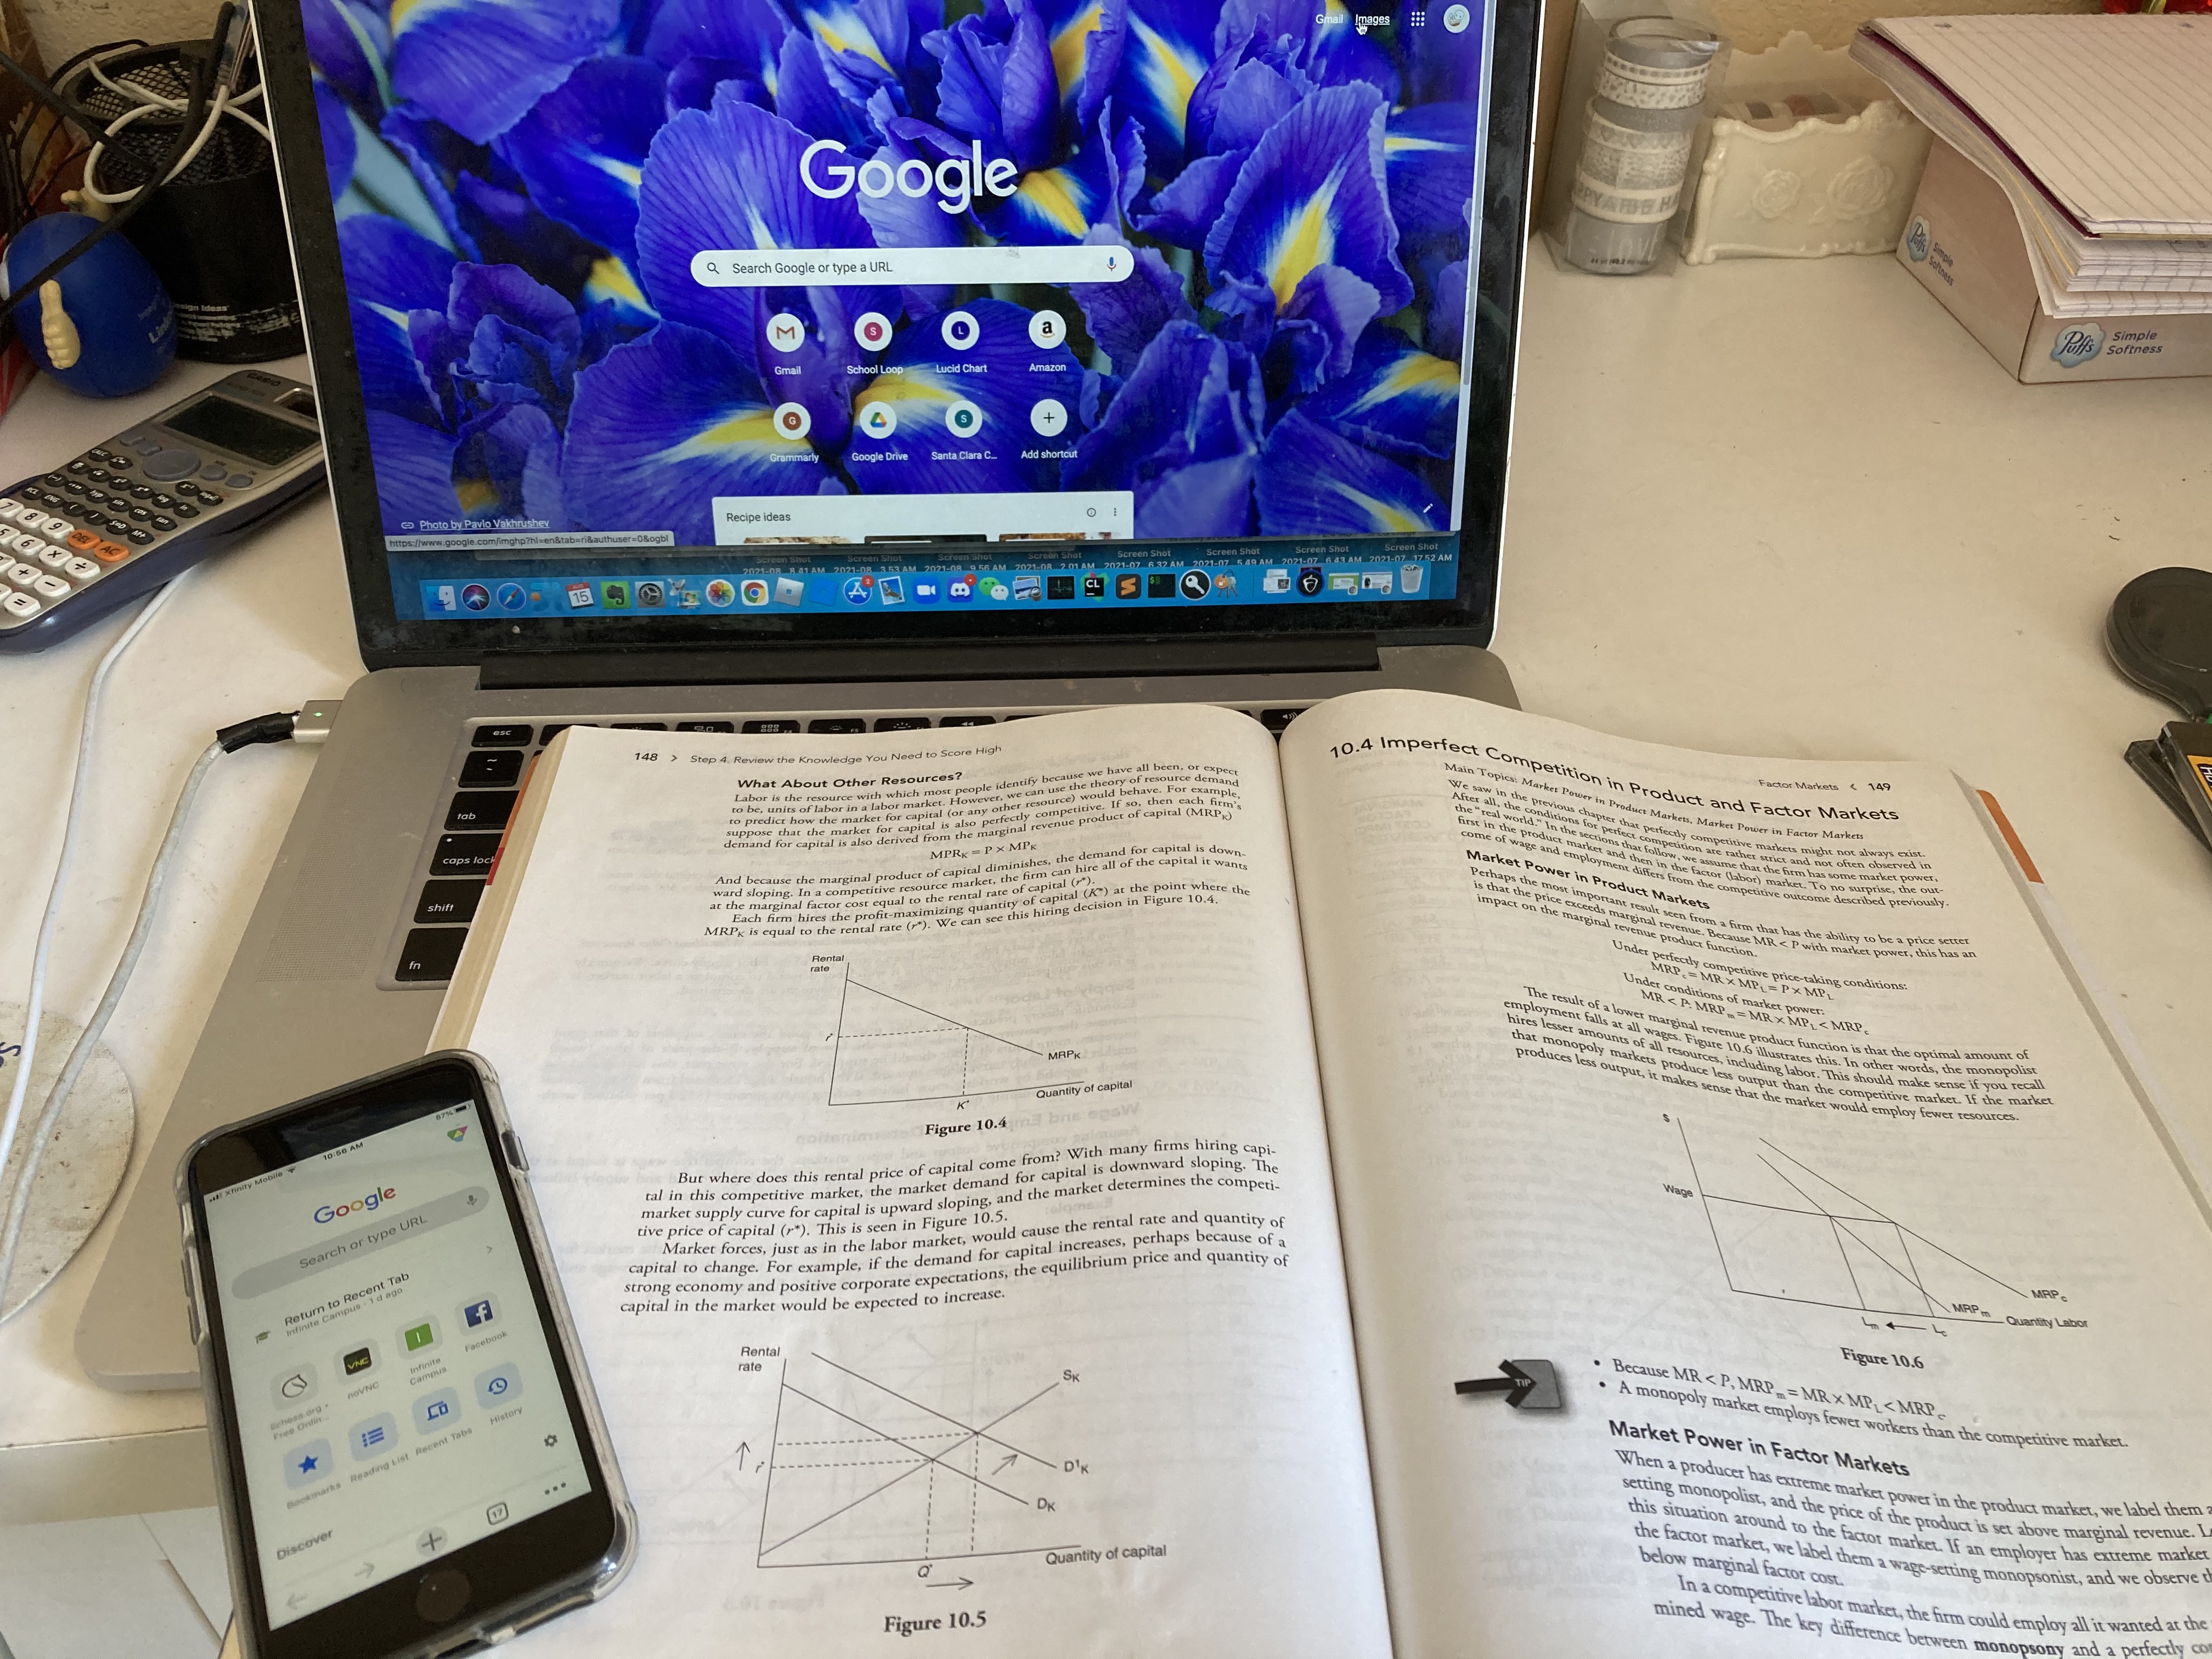Cell Phone: (174, 1047, 631, 1656)
Open Book: (441, 714, 2212, 1659)
